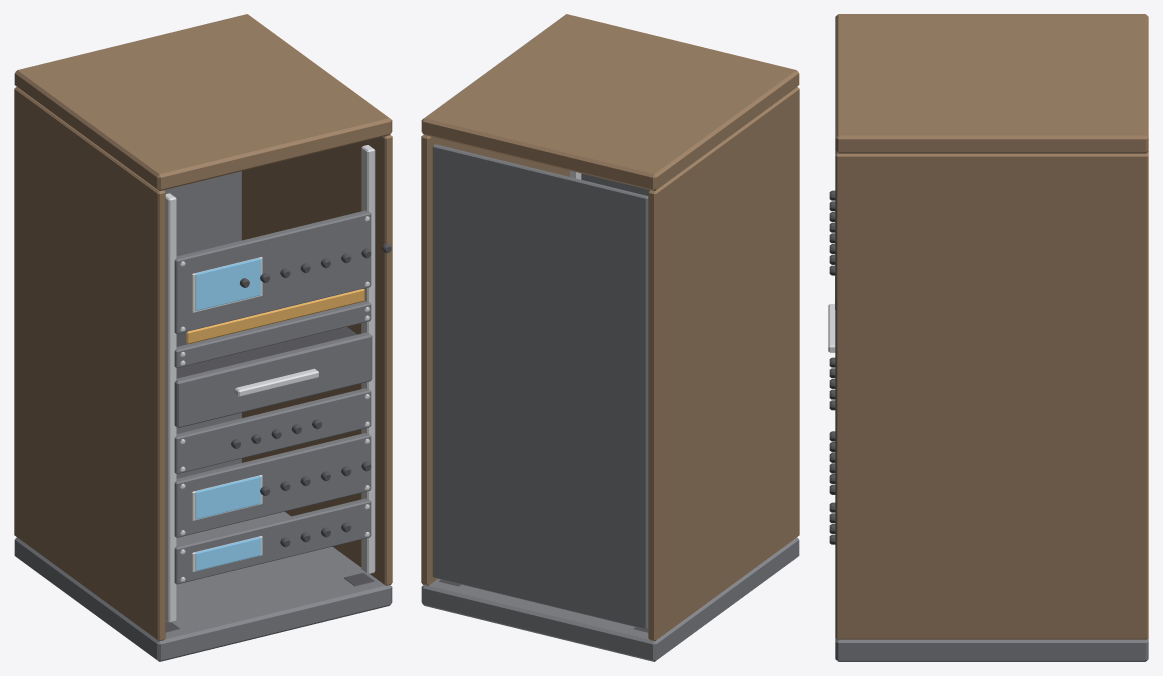
File: music-recording-studio-and-instruments-rack-cabinet-dbd808b6__33806.glb
The picture shows the model from 3 angles, left to right: view 1: azimuth 30°, elevation 25°; view 2: azimuth 150°, elevation 25°; view 3: azimuth 270°, elevation 25°; orthographic projection. The views are drawn at different scales.
Parts seen in each view (by area): view 1: rack-cabinet, drawer/dark, drawer/gear, drawer/metal; view 2: rack-cabinet; view 3: rack-cabinet.
Part boxes in pixels (x1=…): rack-cabinet: x1=14, y1=14, x2=392, y2=661; drawer/dark: x1=174, y1=332, x2=372, y2=427; drawer/gear: x1=176, y1=327, x2=356, y2=378; drawer/metal: x1=234, y1=368, x2=318, y2=396; rack-cabinet: x1=421, y1=14, x2=799, y2=661; rack-cabinet: x1=829, y1=14, x2=1148, y2=661.
Size of the model in its own units: 0.5801 by 1.15 by 0.634.
